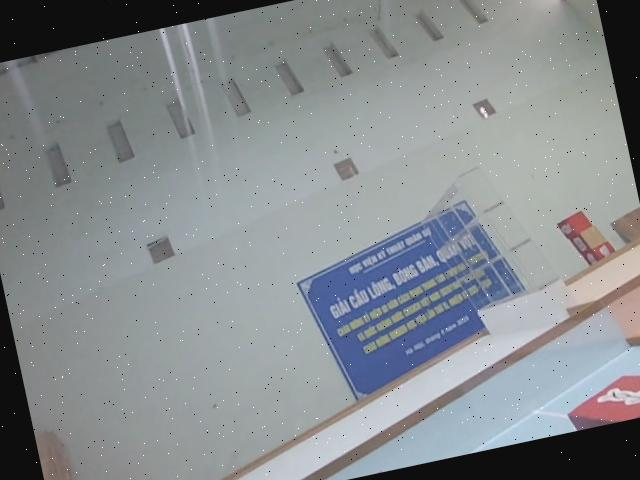R2 Real: (559, 361, 640, 432)
